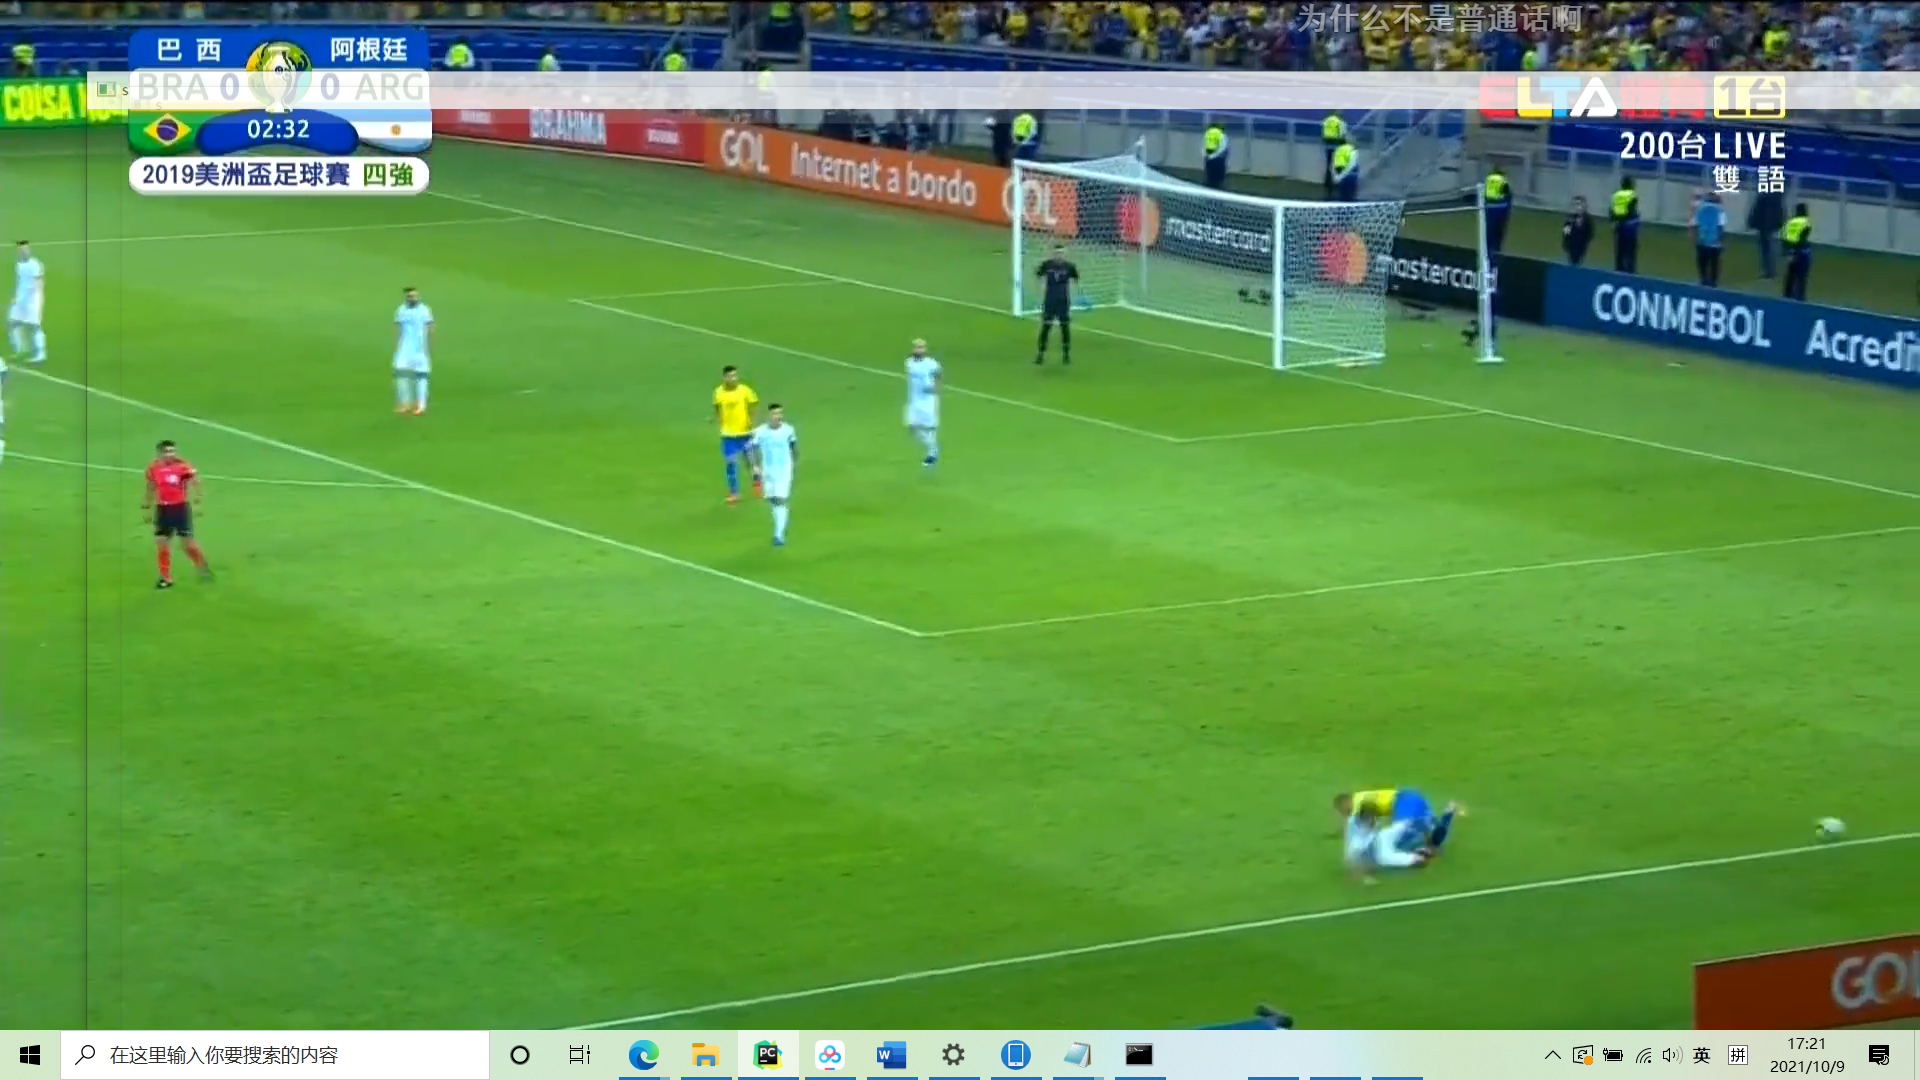ft: (1813, 816, 1845, 843)
